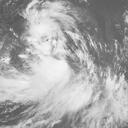cyclone: (28, 7, 64, 41)
